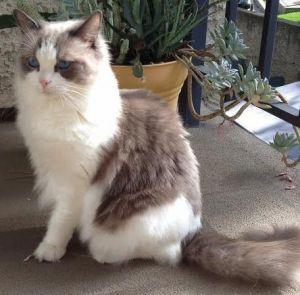ragdoll: (6, 4, 114, 114)
